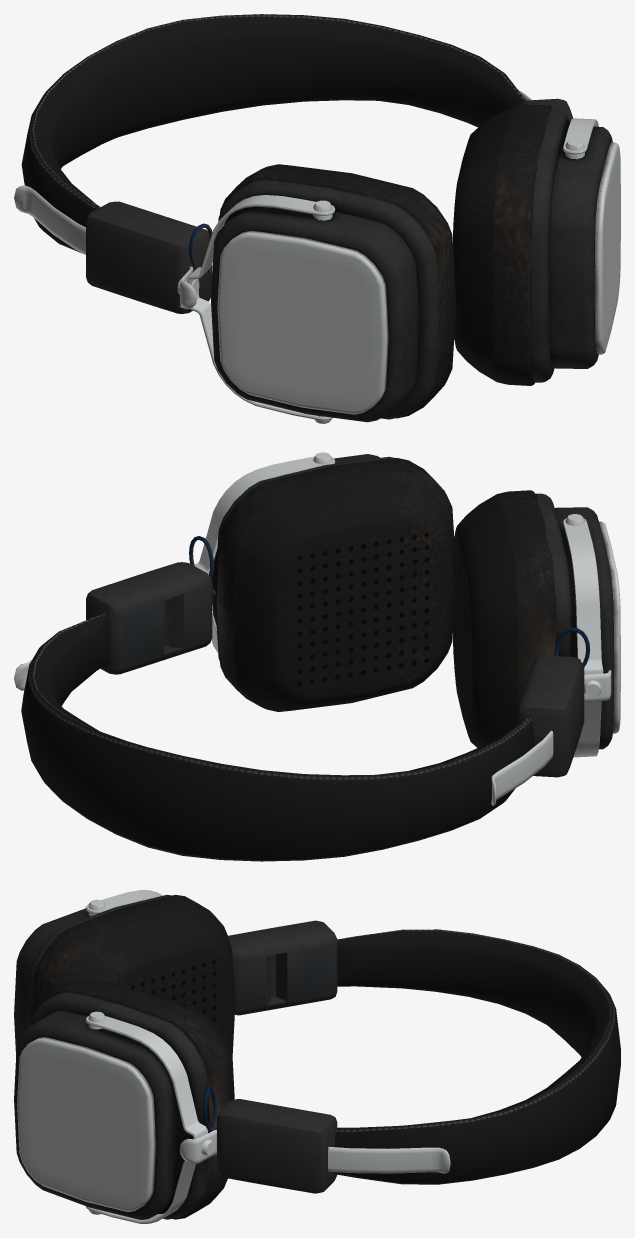
3 renders of one model, top to bottom at view 1: azimuth 30°, elevation 25°; view 2: azimuth 150°, elevation 25°; view 3: azimuth 270°, elevation 25°, orthographic. The views are drawn at different scales.
Visible parts, largest first — view 1: 003_headfones_low, 001_headfones_low, 002_headfones_low; view 2: 003_headfones_low, 001_headfones_low, 002_headfones_low; view 3: 003_headfones_low, 001_headfones_low, 002_headfones_low.
Boxes of the visible parts, bbox=[...] form: 003_headfones_low: bbox=[14, 89, 620, 422]; 001_headfones_low: bbox=[21, 14, 584, 423]; 002_headfones_low: bbox=[86, 98, 598, 420]; 003_headfones_low: bbox=[14, 454, 620, 805]; 001_headfones_low: bbox=[21, 452, 601, 861]; 002_headfones_low: bbox=[86, 456, 603, 777]; 003_headfones_low: bbox=[14, 894, 450, 1219]; 001_headfones_low: bbox=[88, 899, 620, 1214]; 002_headfones_low: bbox=[86, 890, 337, 1223].
Bounding box in the file's own units: 32.96 × 14.75 × 39.52.
Materials: 1 (1 with a texture image).
